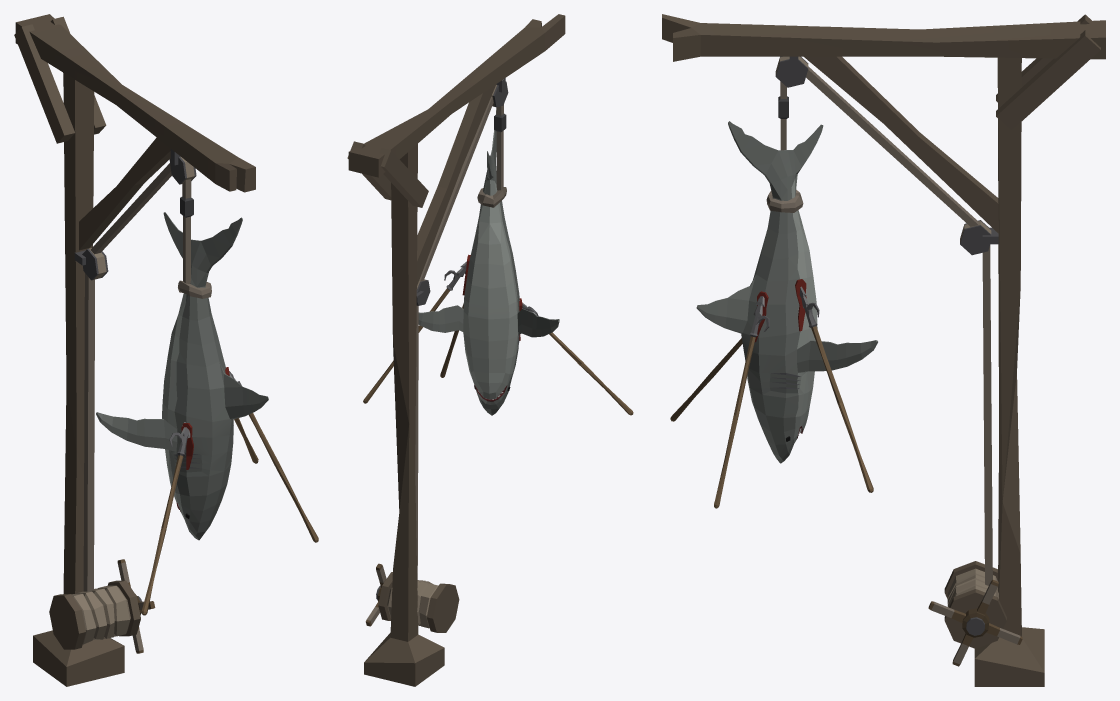
The model's file is SM_Prop_Crane_Shark_01.glb.
3 renders of one model, left to right at view 1: azimuth 30°, elevation 25°; view 2: azimuth 150°, elevation 25°; view 3: azimuth 270°, elevation 25°, orthographic. The views are drawn at different scales.
Parts seen in each view (by area): view 1: SM_Prop_Crane_Shark_01; view 2: SM_Prop_Crane_Shark_01; view 3: SM_Prop_Crane_Shark_01.
Boxes of the visible parts, left/top/right/bottom form: SM_Prop_Crane_Shark_01: left=14, top=14, right=318, bottom=686; SM_Prop_Crane_Shark_01: left=347, top=14, right=633, bottom=686; SM_Prop_Crane_Shark_01: left=662, top=14, right=1105, bottom=686.
Bounding box in the file's own units: 0.0258 × 0.0729 × 0.0451.
